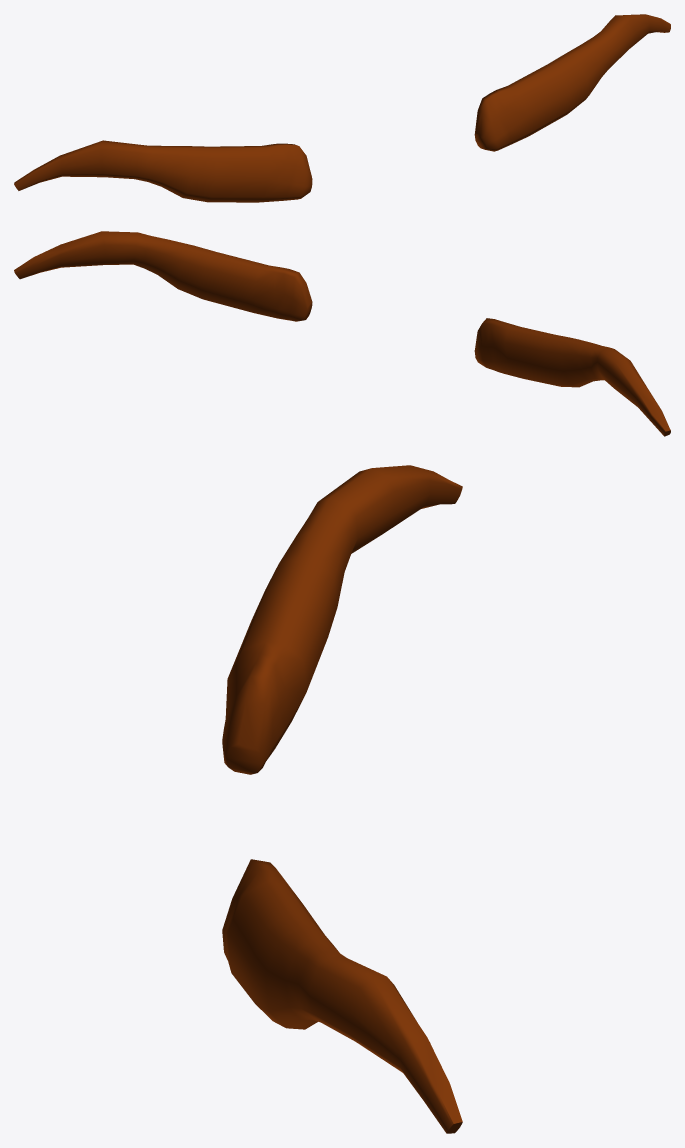
Rendered from Eyebrows_06_02.fbx.
The picture shows the model from 3 angles, top to bottom: view 1: azimuth 30°, elevation 25°; view 2: azimuth 150°, elevation 25°; view 3: azimuth 270°, elevation 25°; orthographic projection. The views are drawn at different scales.
Visible parts, largest first — view 1: Eyebrows_06_02; view 2: Eyebrows_06_02; view 3: Eyebrows_06_02.
Boxes of the visible parts, x1,y1,x2,y2 form: Eyebrows_06_02: (14,14,670,202); Eyebrows_06_02: (14,231,670,436); Eyebrows_06_02: (222,465,462,1133).
Bounding box in the file's own units: 19.46 × 2.04 × 3.09.
